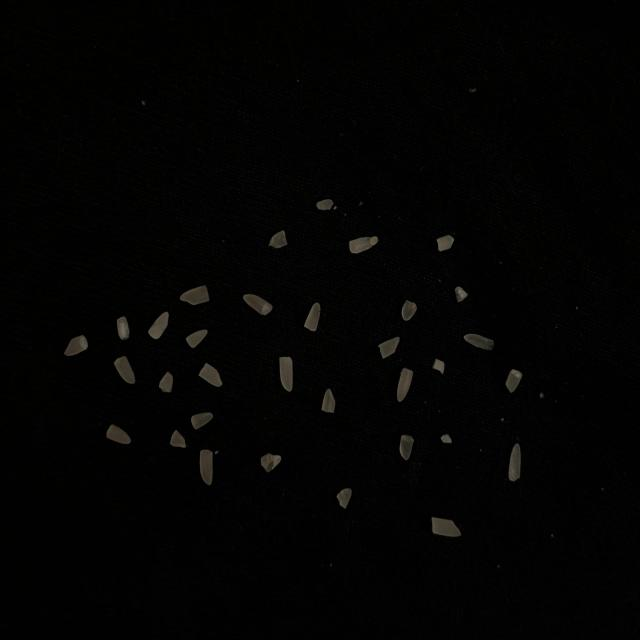Broken: (180, 284, 210, 306), (243, 294, 273, 316), (430, 516, 461, 537), (148, 311, 170, 339), (115, 356, 136, 384), (463, 334, 494, 352), (200, 363, 222, 388), (106, 424, 132, 445), (397, 368, 413, 402), (348, 236, 378, 254), (64, 335, 88, 357), (304, 302, 321, 332), (279, 356, 293, 392), (200, 449, 214, 485), (505, 368, 523, 394), (378, 337, 399, 359), (187, 330, 209, 349), (261, 453, 283, 472), (399, 434, 414, 461), (191, 412, 214, 429), (269, 230, 288, 248), (321, 388, 335, 412), (116, 316, 130, 340), (337, 487, 352, 509), (159, 372, 174, 394), (403, 301, 418, 322), (437, 235, 454, 252), (170, 431, 186, 449), (454, 286, 468, 303), (316, 199, 334, 210), (432, 358, 444, 373), (441, 434, 453, 444)
Full: (508, 443, 522, 482)
